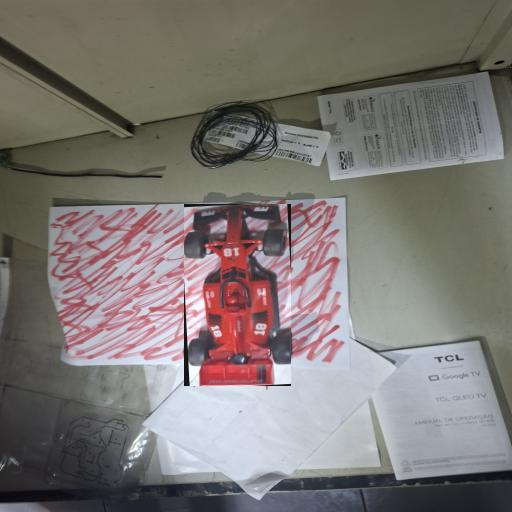carro: (184, 205, 290, 385)
